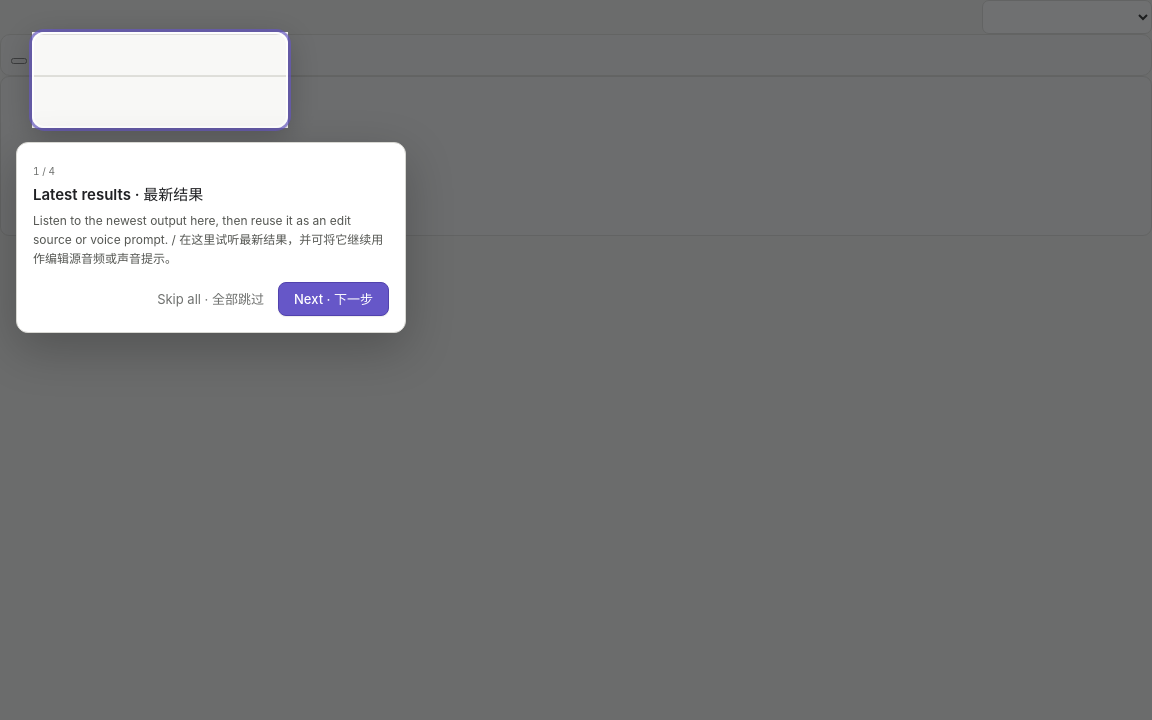
Test: OnboardingTour › uses preset and internal-reuse guidance when uploads are disabled
Expected: the heading "Latest results · 最新结果" is shown, [33, 185, 203, 204]
Click the button "Next · 下一步": (334, 299) [278, 282, 389, 316]
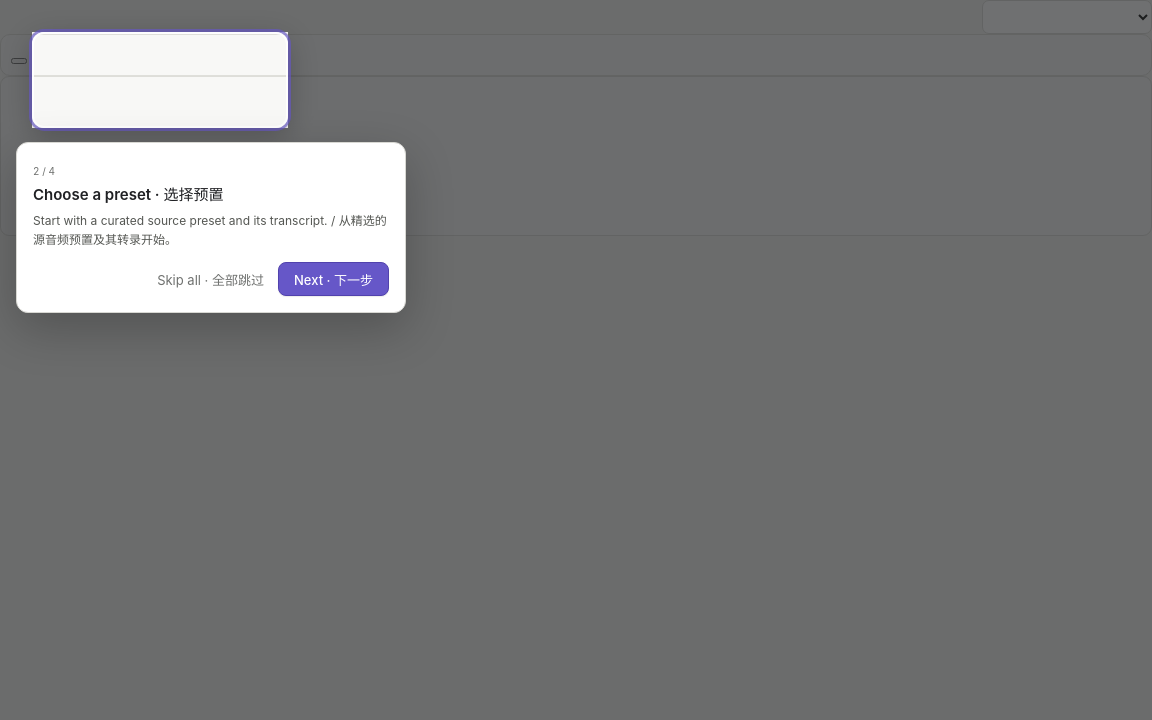
Now the heading "Choose a preset · 选择预置" is shown, box [33, 185, 223, 204]
Click the button "Next · 下一步": (334, 279) [278, 262, 389, 296]
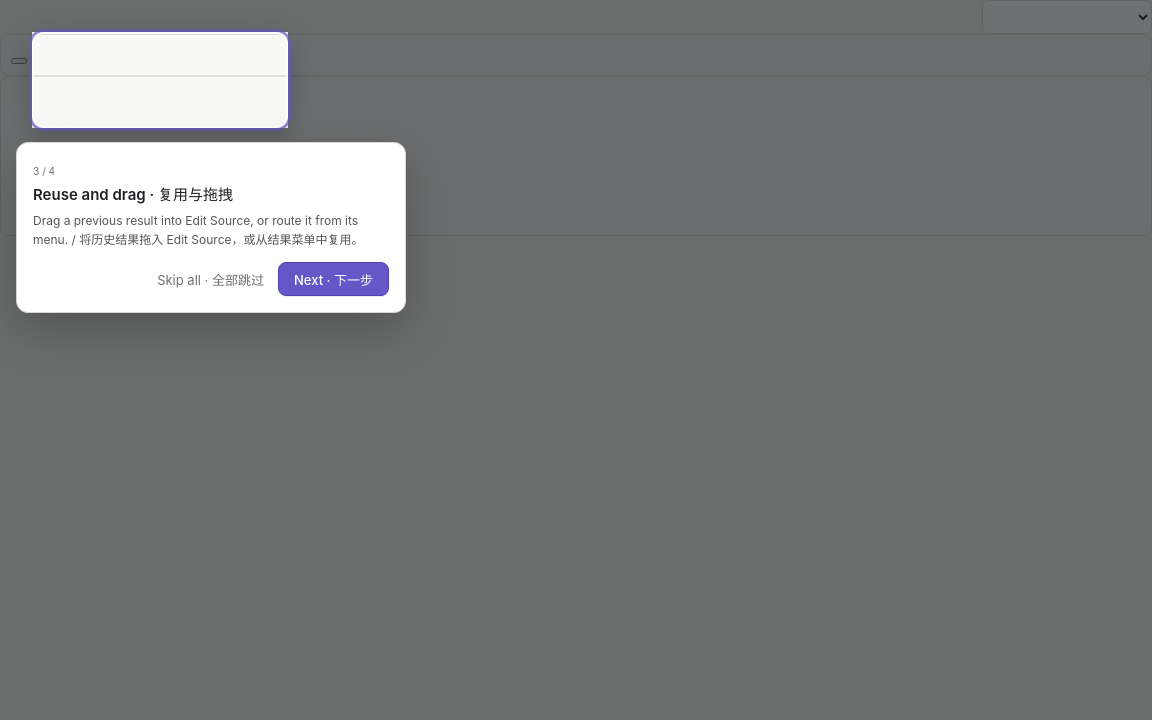
Now the heading "Reuse and drag · 复用与拖拽" is shown, box [33, 185, 233, 204]
Click the button "Next · 下一步": (334, 279) [278, 262, 389, 296]
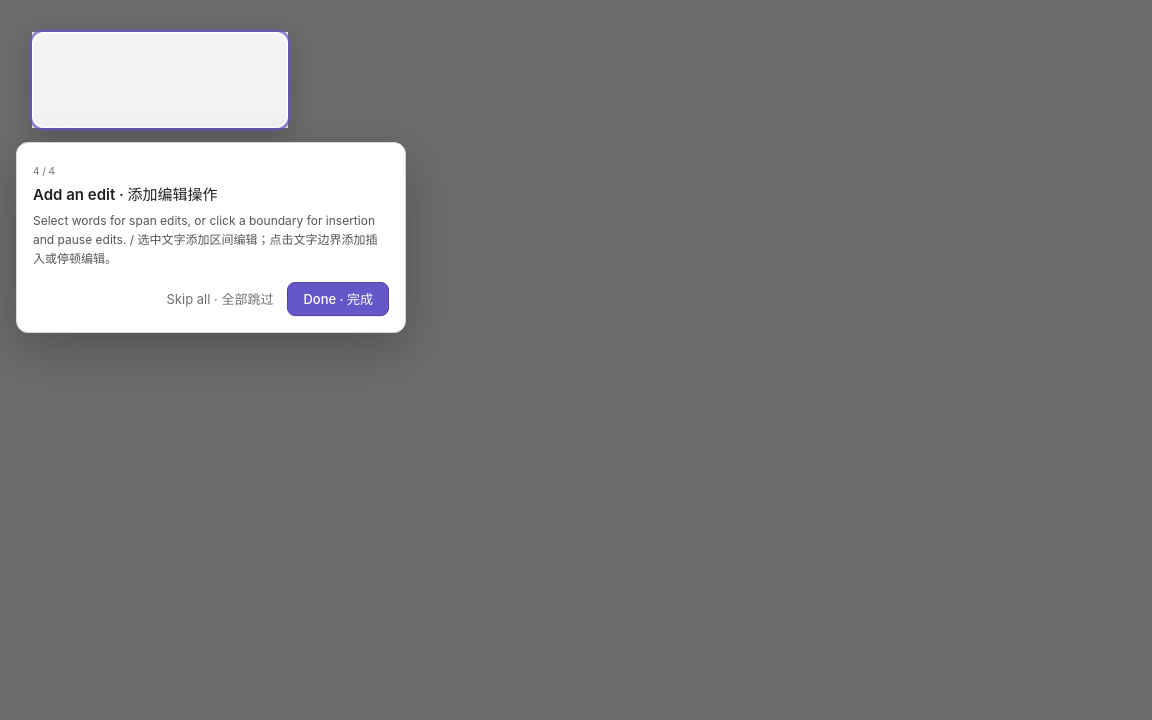
Now the heading "Add an edit · 添加编辑操作" is shown, box [33, 185, 218, 204]
